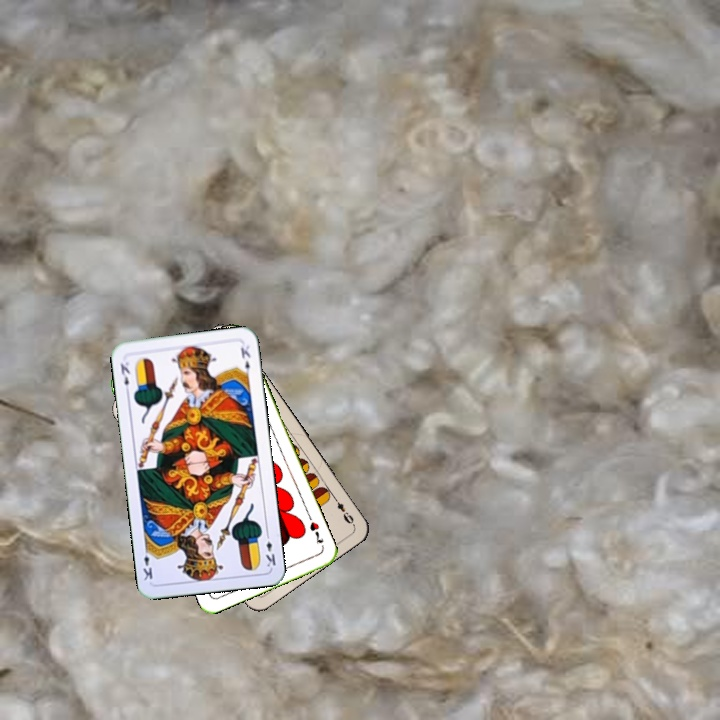E9: (329, 492, 357, 528)
EK: (261, 528, 278, 569), (116, 358, 133, 396)
H7: (306, 518, 326, 547)
